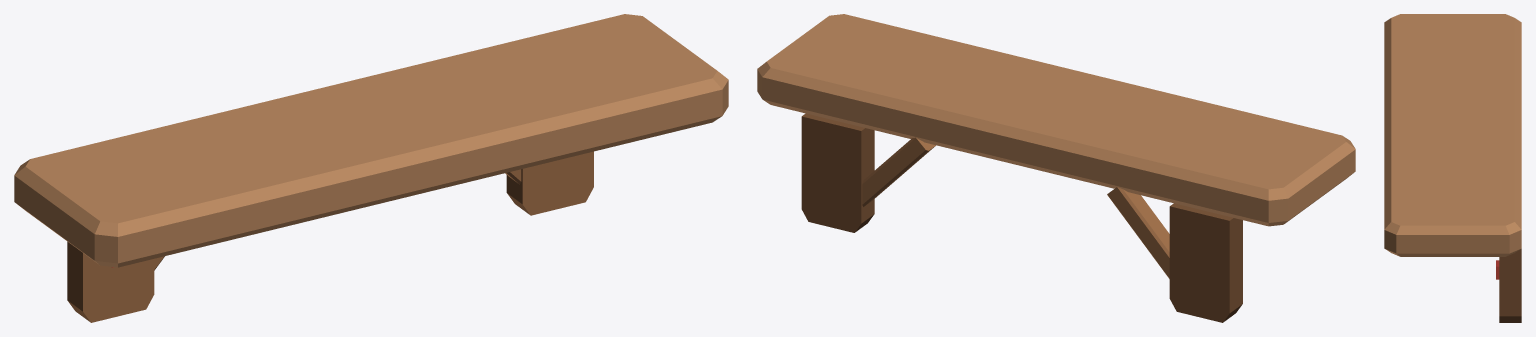
Rendered from FMS_Workshop_MOD_12.fbx.
The picture shows the model from 3 angles, left to right: view 1: azimuth 30°, elevation 25°; view 2: azimuth 150°, elevation 25°; view 3: azimuth 270°, elevation 25°; orthographic projection. The views are drawn at different scales.
Parts seen in each view (by area): view 1: FMS_Workshop_MOD_12_Body; view 2: FMS_Workshop_MOD_12_Body; view 3: FMS_Workshop_MOD_12_Body.
Boxes of the visible parts, x1,y1,x2,y2 form: FMS_Workshop_MOD_12_Body: [14, 14, 728, 322]; FMS_Workshop_MOD_12_Body: [757, 14, 1355, 322]; FMS_Workshop_MOD_12_Body: [1384, 14, 1521, 322].
Size of the model in its own units: 1.5 by 0.38 by 0.4.
Materials: 1 (1 with a texture image).
